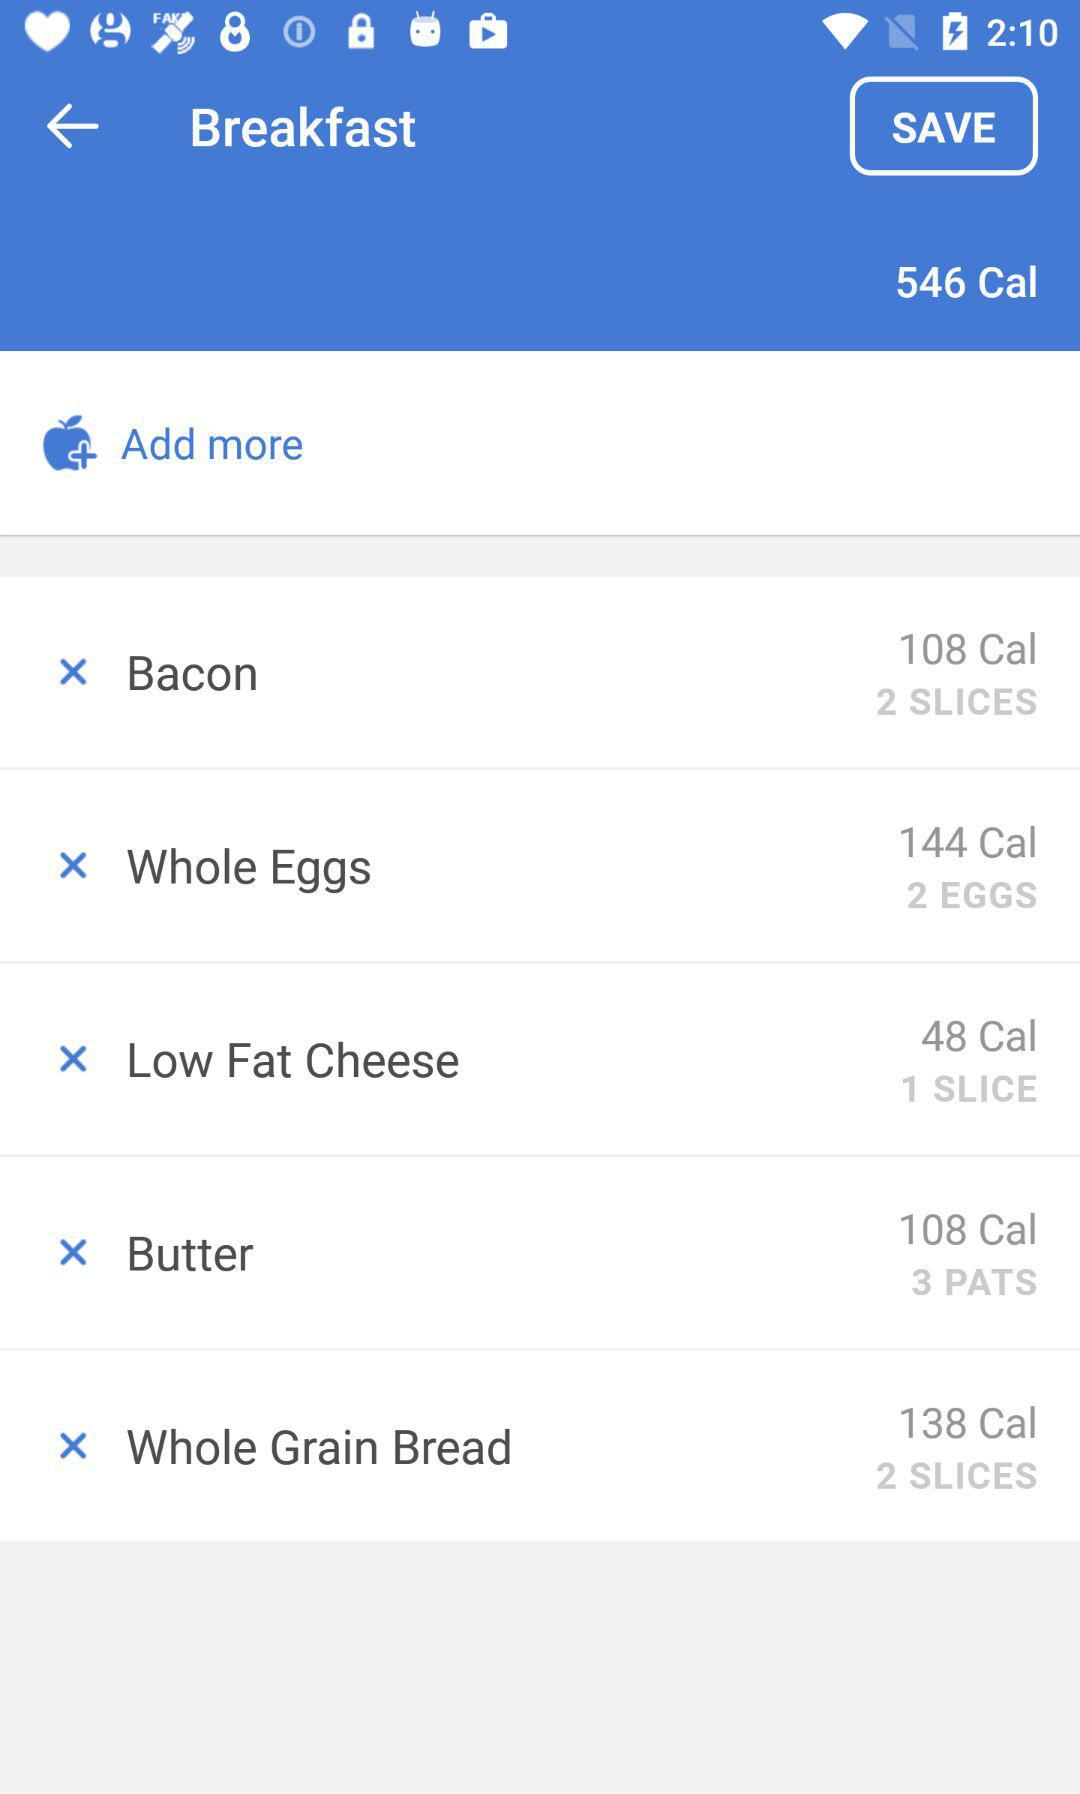Icon: (46, 103, 101, 151), (60, 1238, 88, 1267), (60, 1044, 88, 1074), (60, 657, 88, 687), (60, 851, 88, 880), (60, 1431, 88, 1460)
Image: (44, 414, 99, 473)
Text: (126, 1428, 511, 1466), (129, 1041, 460, 1080), (127, 847, 372, 894), (192, 105, 416, 149), (120, 427, 304, 463), (897, 264, 1038, 300), (876, 1460, 1036, 1490), (876, 687, 1036, 718), (129, 655, 258, 693), (899, 1404, 1036, 1440), (899, 632, 1036, 668), (899, 1212, 1036, 1247), (899, 825, 1036, 860), (129, 1237, 255, 1272), (902, 1074, 1036, 1105), (921, 1019, 1036, 1053), (908, 882, 1036, 910), (912, 1269, 1036, 1296)
TextButton: (849, 76, 1039, 178)
UpperTaskBar: (1, 1, 1080, 58)
